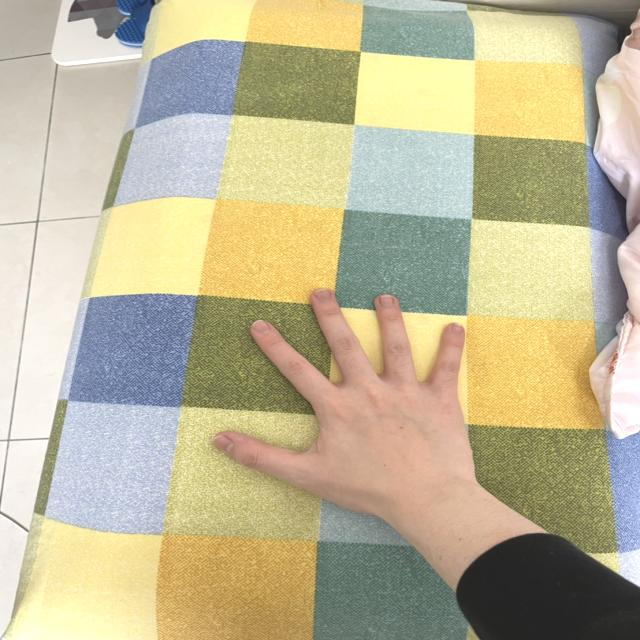no_glove: (185, 276, 493, 544)
